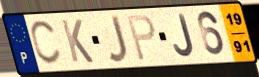6: (196, 10, 228, 59)
C: (29, 19, 63, 68)
J: (106, 14, 130, 64), (172, 12, 196, 59)
K: (59, 18, 96, 65)
P: (125, 13, 157, 63)
